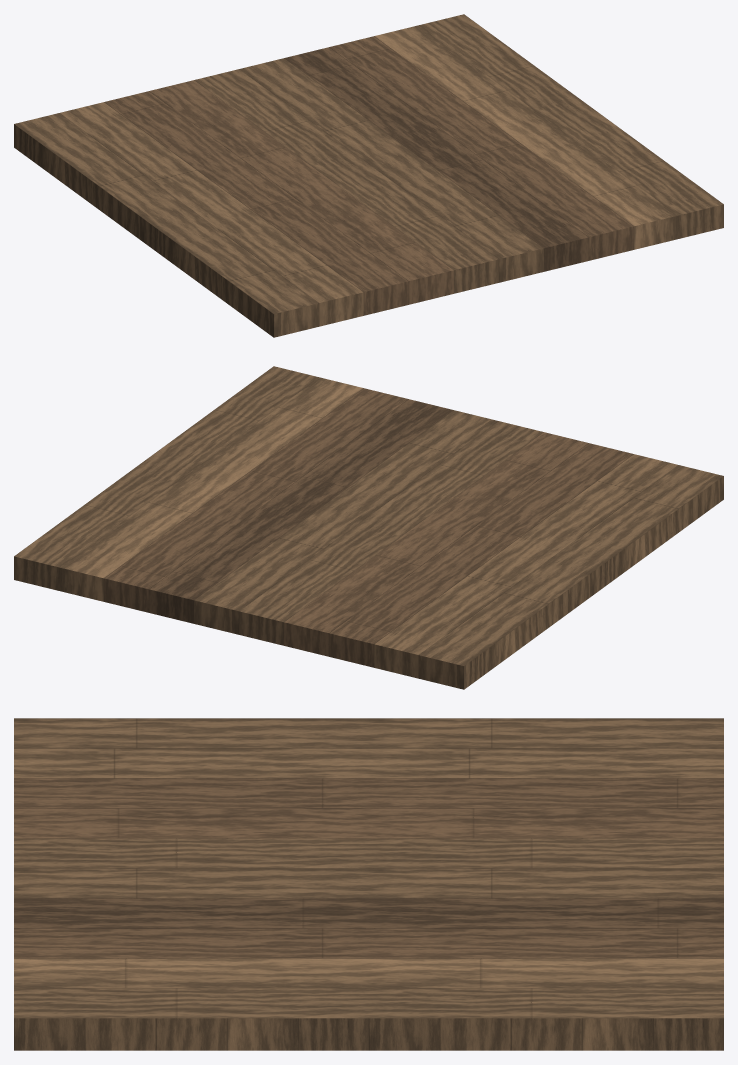
File: EST_Piso.fbx
3 renders of one model, top to bottom at view 1: azimuth 30°, elevation 25°; view 2: azimuth 150°, elevation 25°; view 3: azimuth 270°, elevation 25°, orthographic. The views are drawn at different scales.
Visible parts, largest first — view 1: EST_Piso; view 2: EST_Piso; view 3: EST_Piso.
Part boxes in pixels (x1,y1,x2,y2): EST_Piso: (14, 14, 723, 337); EST_Piso: (14, 366, 723, 689); EST_Piso: (14, 718, 723, 1050).
Bounding box in the file's own units: 2 × 0.1 × 2.
